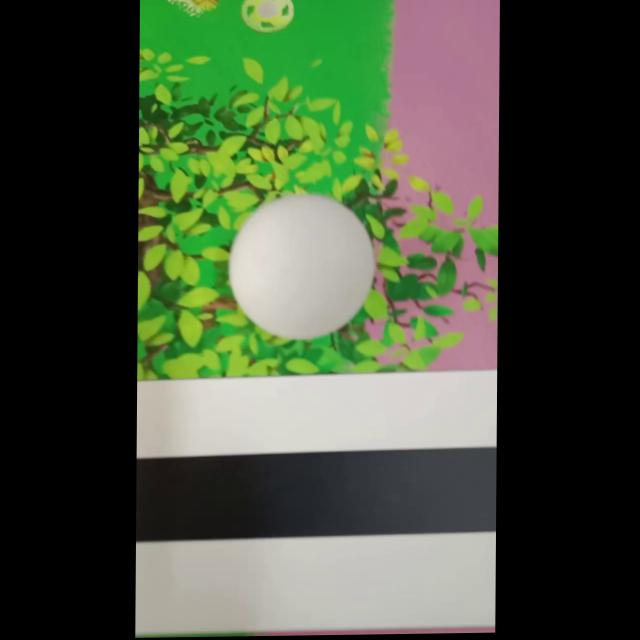white ball: (226, 191, 376, 342)
